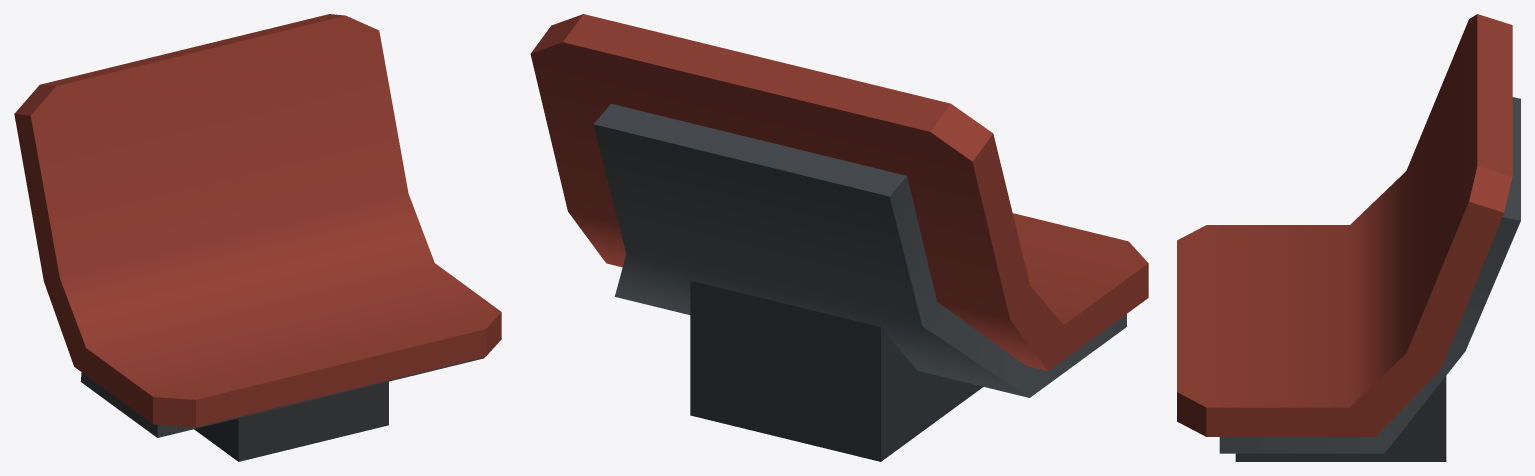
Rendered from SM_GameArea_Chair_05.fbx.
3 views of the same model, side by side, from view 1: azimuth 30°, elevation 25°; view 2: azimuth 150°, elevation 25°; view 3: azimuth 270°, elevation 25° (orthographic). The views are drawn at different scales.
Visible parts, largest first — view 1: SM_GameArea_Chair_05; view 2: SM_GameArea_Chair_05; view 3: SM_GameArea_Chair_05.
Part boxes in pixels (x1,y1,x2,y2): SM_GameArea_Chair_05: (14,14,501,461); SM_GameArea_Chair_05: (530,14,1148,461); SM_GameArea_Chair_05: (1177,14,1520,461).
Size of what is drawn, in the model's own units: 359 by 305 by 286.
